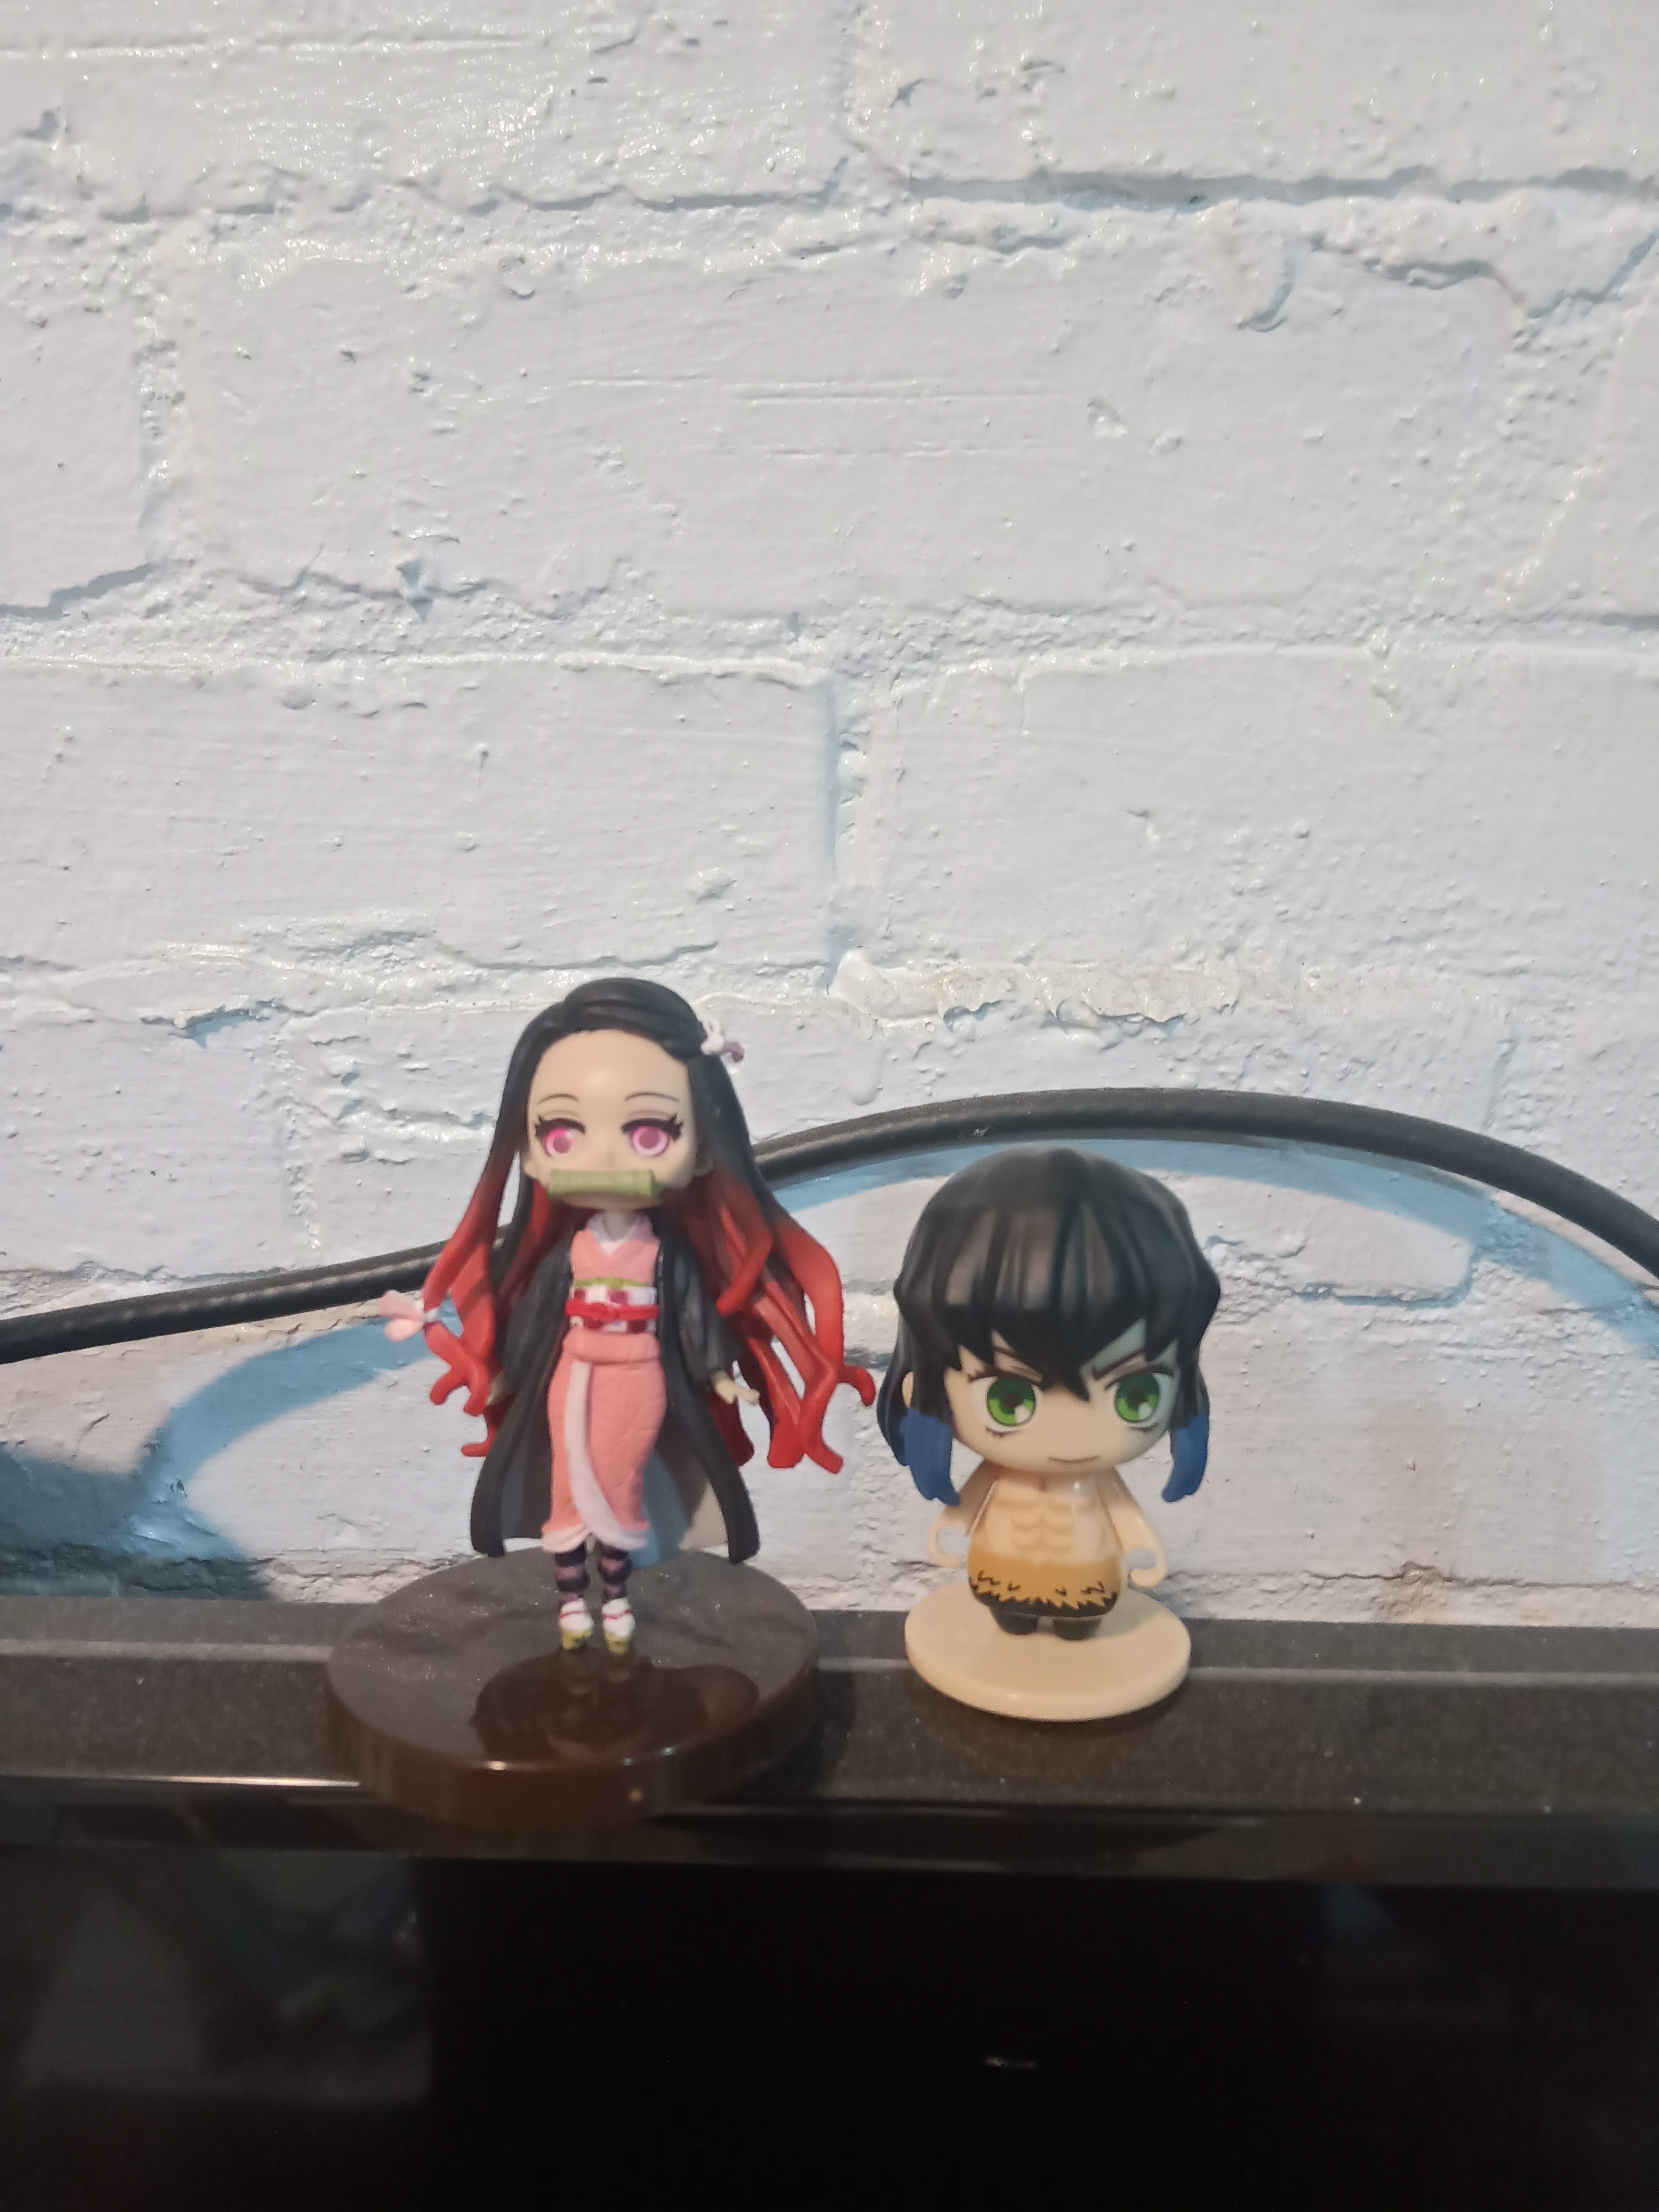Inosuke: (870, 1141, 1243, 1737)
Nezuko: (296, 956, 884, 1853)
